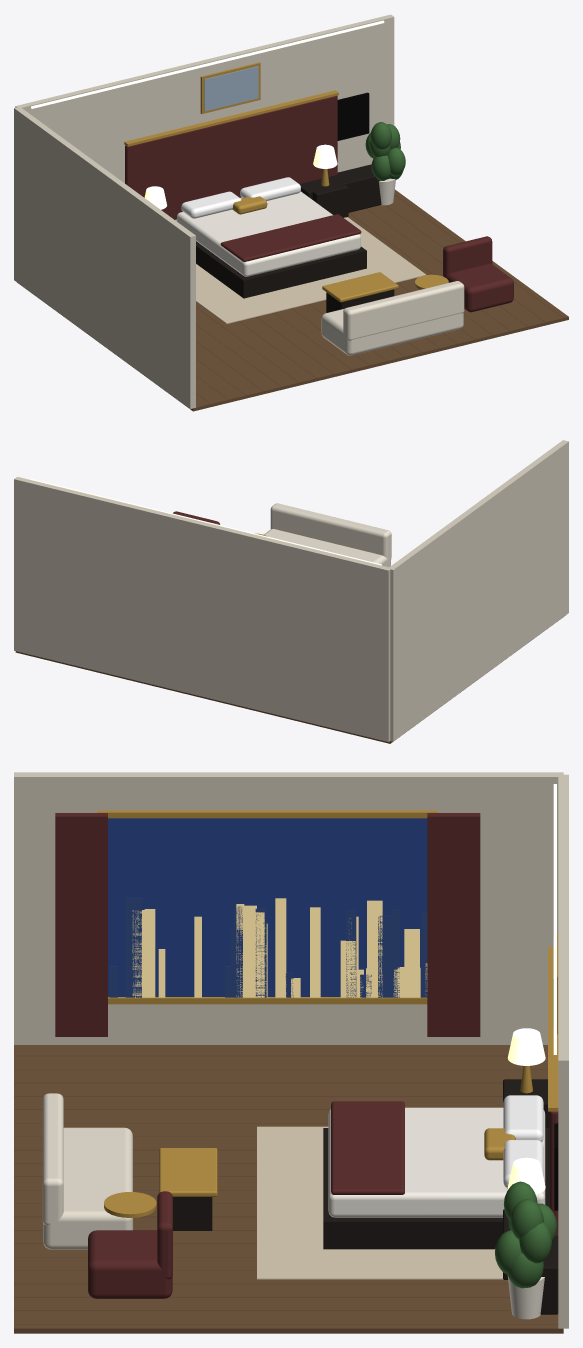
Rendered from executive.glb.
3 renders of one model, top to bottom at view 1: azimuth 30°, elevation 25°; view 2: azimuth 150°, elevation 25°; view 3: azimuth 270°, elevation 25°, orthographic. The views are drawn at different scales.
Parts seen in each view (by area): view 1: LuxuryStay executive room; view 2: LuxuryStay executive room; view 3: LuxuryStay executive room.
Part boxes in pixels (x1,y1,x2,y2): LuxuryStay executive room: (14,14,568,411); LuxuryStay executive room: (14,440,568,743); LuxuryStay executive room: (14,772,568,1333).
Size of the model in its own units: 6.45 by 2.85 by 5.25.
